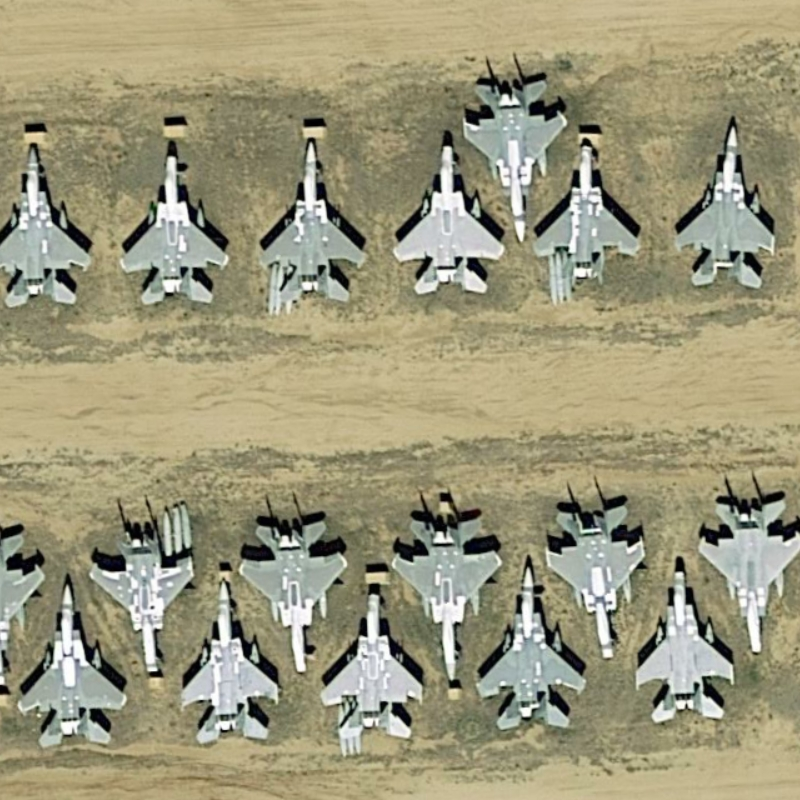A13: (249, 135, 389, 314), (9, 568, 142, 755), (115, 134, 246, 318), (381, 498, 512, 676), (665, 104, 787, 294), (387, 127, 510, 313), (471, 553, 598, 732), (451, 63, 577, 239), (530, 129, 660, 290), (177, 567, 289, 750), (315, 588, 444, 746), (542, 490, 660, 661), (690, 478, 800, 658), (238, 509, 358, 672), (84, 516, 196, 685), (630, 558, 740, 730), (2, 134, 102, 315)
